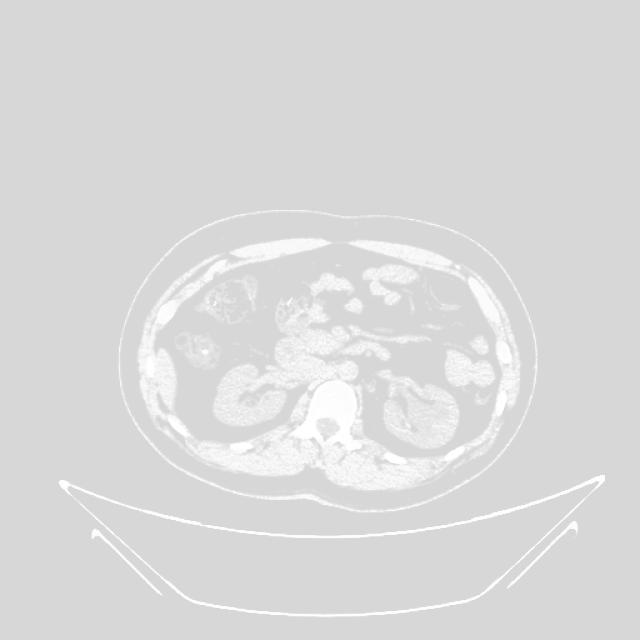cysts: (168, 259, 518, 437)
